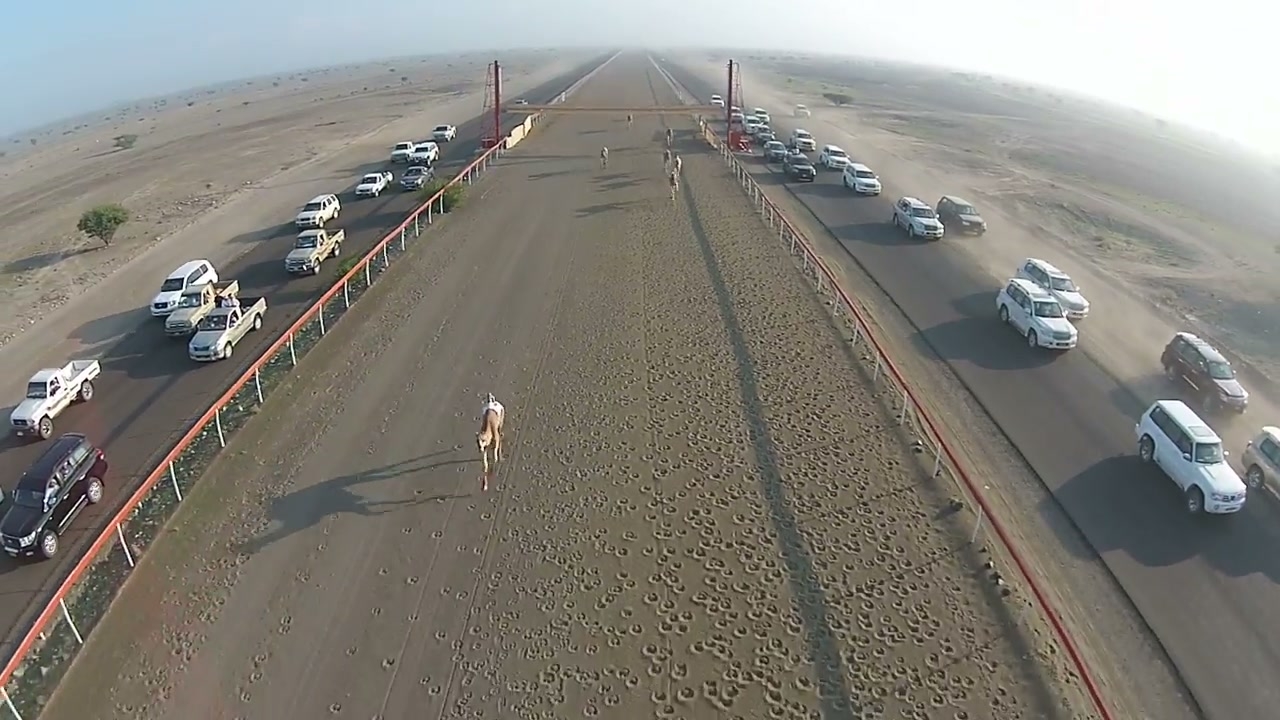animal_foot_print: (480, 262, 1026, 719)
